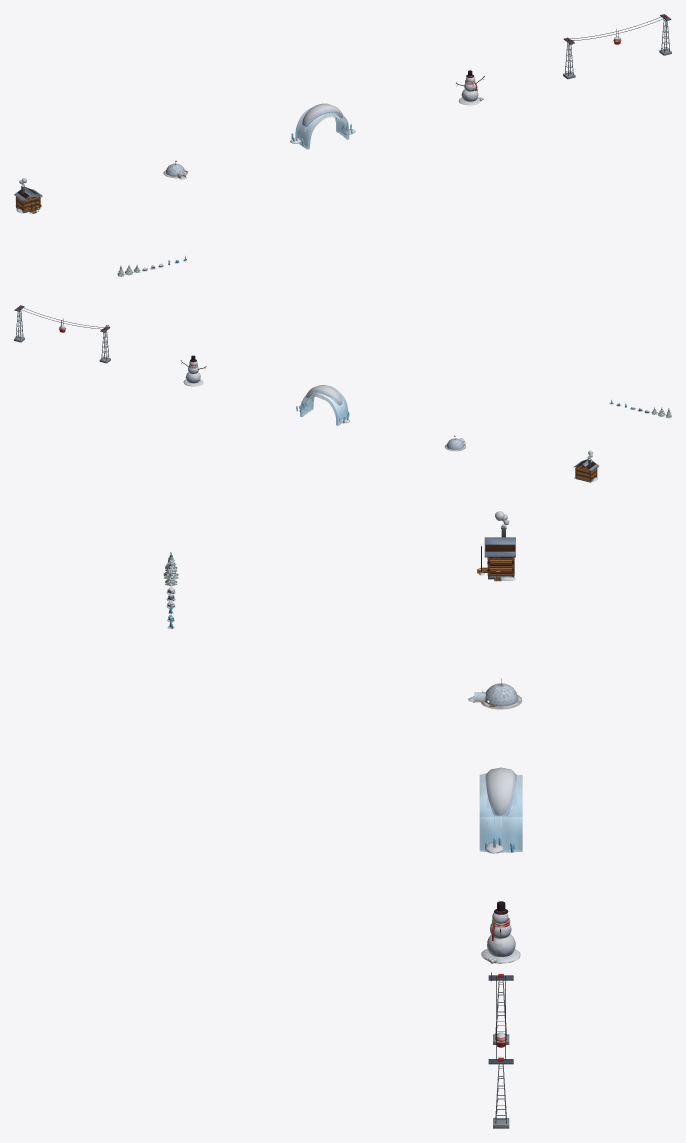
File: world-snow.glb
3 views of the same model, one above another, from view 1: azimuth 30°, elevation 25°; view 2: azimuth 150°, elevation 25°; view 3: azimuth 270°, elevation 25° (orthographic). The views are drawn at different scales.
Parts seen in each view (by area): view 1: icearch.shell.glass, gondola.body.lit, icearch.solid.lit, cabin.body.lit, snowman.body.lit; view 2: icearch.shell.glass, gondola.body.lit, icearch.solid.lit, cabin.body.lit, snowman.body.lit; view 3: icearch.shell.glass, icearch.solid.lit, cabin.body.lit, snowman.body.lit, gondola.body.lit, igloo.body.lit.
Boxes of the visible parts, x1,y1,x2,y2 form: icearch.shell.glass: (295,107,349,149); gondola.body.lit: (563,14,671,79); icearch.solid.lit: (290,103,355,145); cabin.body.lit: (14,185,42,213); snowman.body.lit: (456,70,484,105); icearch.shell.glass: (300,386,348,425); gondola.body.lit: (14,305,110,363); icearch.solid.lit: (296,385,349,423); cabin.body.lit: (574,458,599,482); snowman.body.lit: (180,355,206,386); icearch.shell.glass: (479,773,522,852); icearch.solid.lit: (485,767,516,853); cabin.body.lit: (477,526,515,581); snowman.body.lit: (481,901,520,963); gondola.body.lit: (488,974,513,1128); igloo.body.lit: (468,678,522,709).
Size of the model in its own units: 487 by 29.96 by 131.
